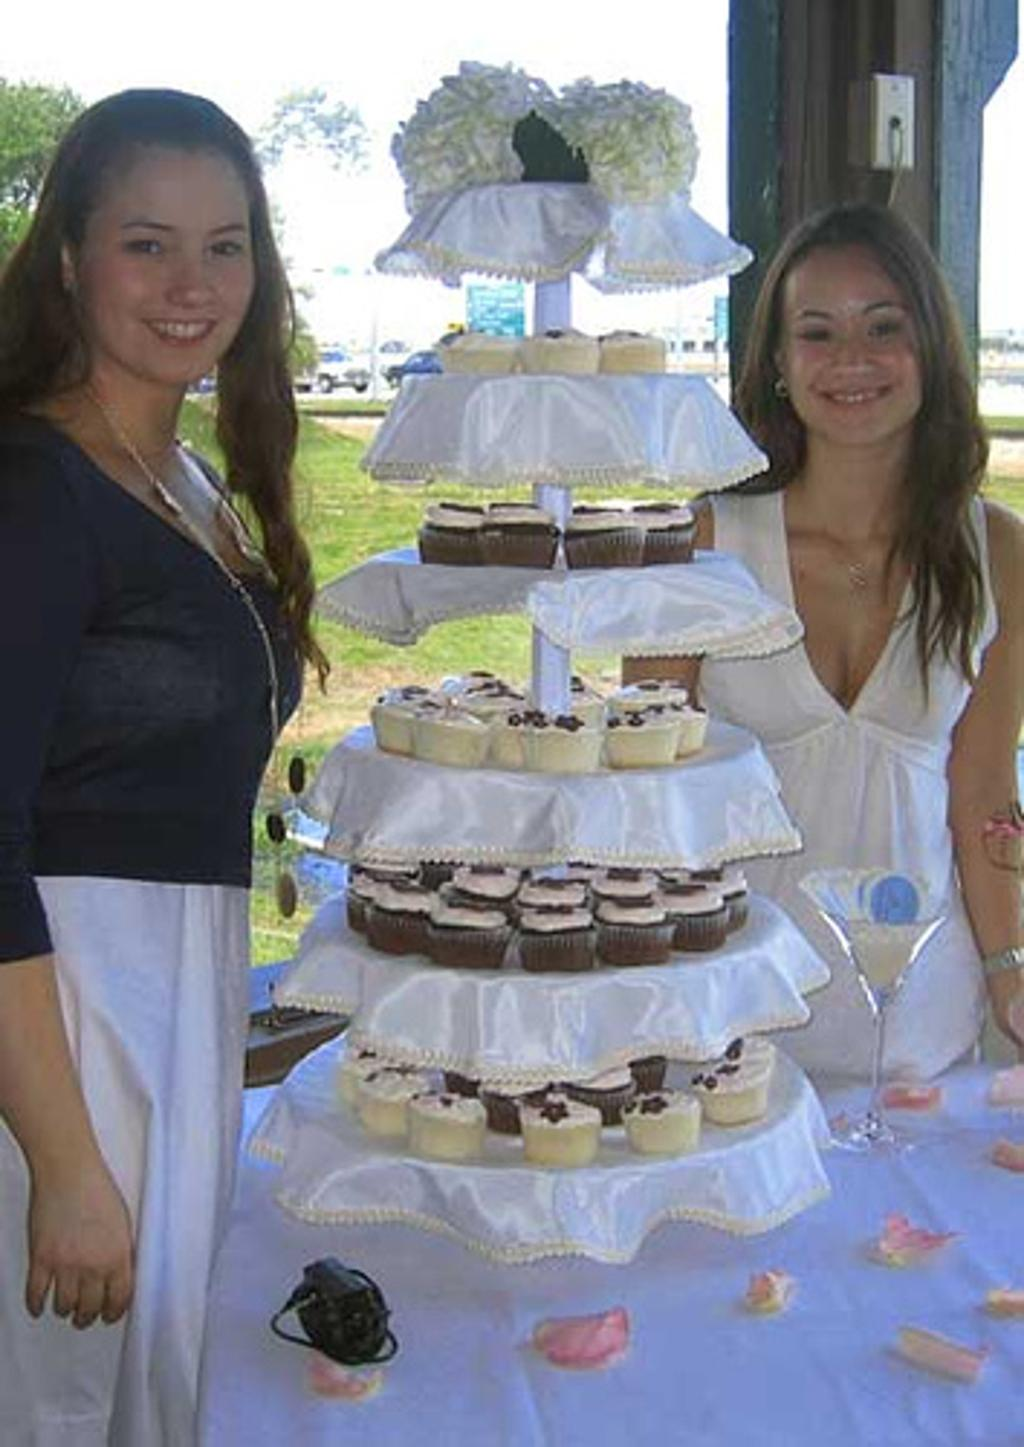face: (88, 144, 255, 379), (781, 249, 922, 444)
